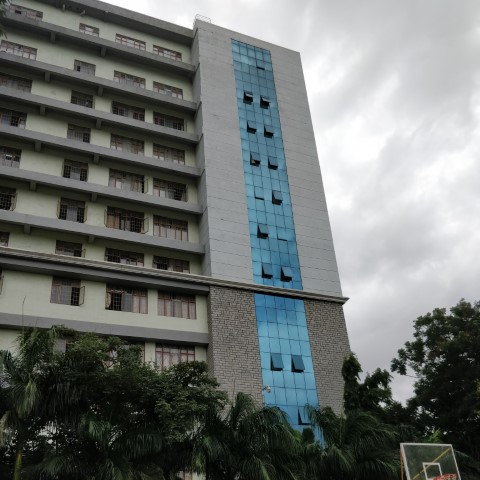Central Block: (1, 1, 382, 426)
